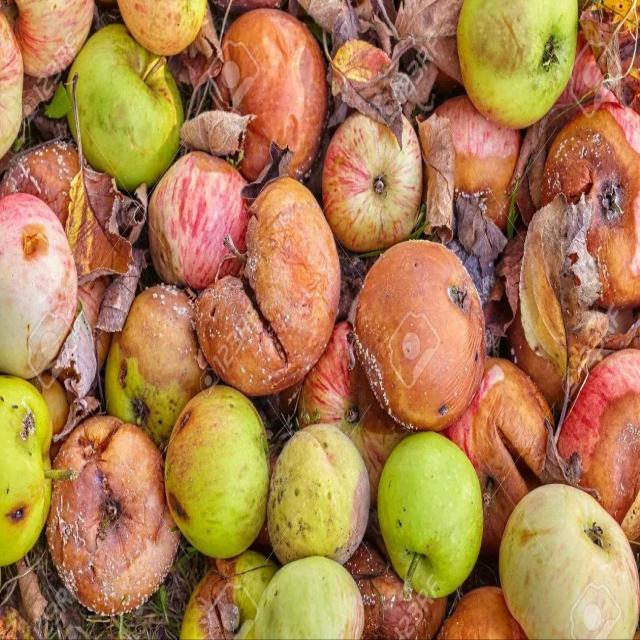Fresh Apple: (367, 435, 493, 592)
Rotten: (192, 190, 342, 393), (347, 235, 495, 437), (50, 415, 180, 608)
